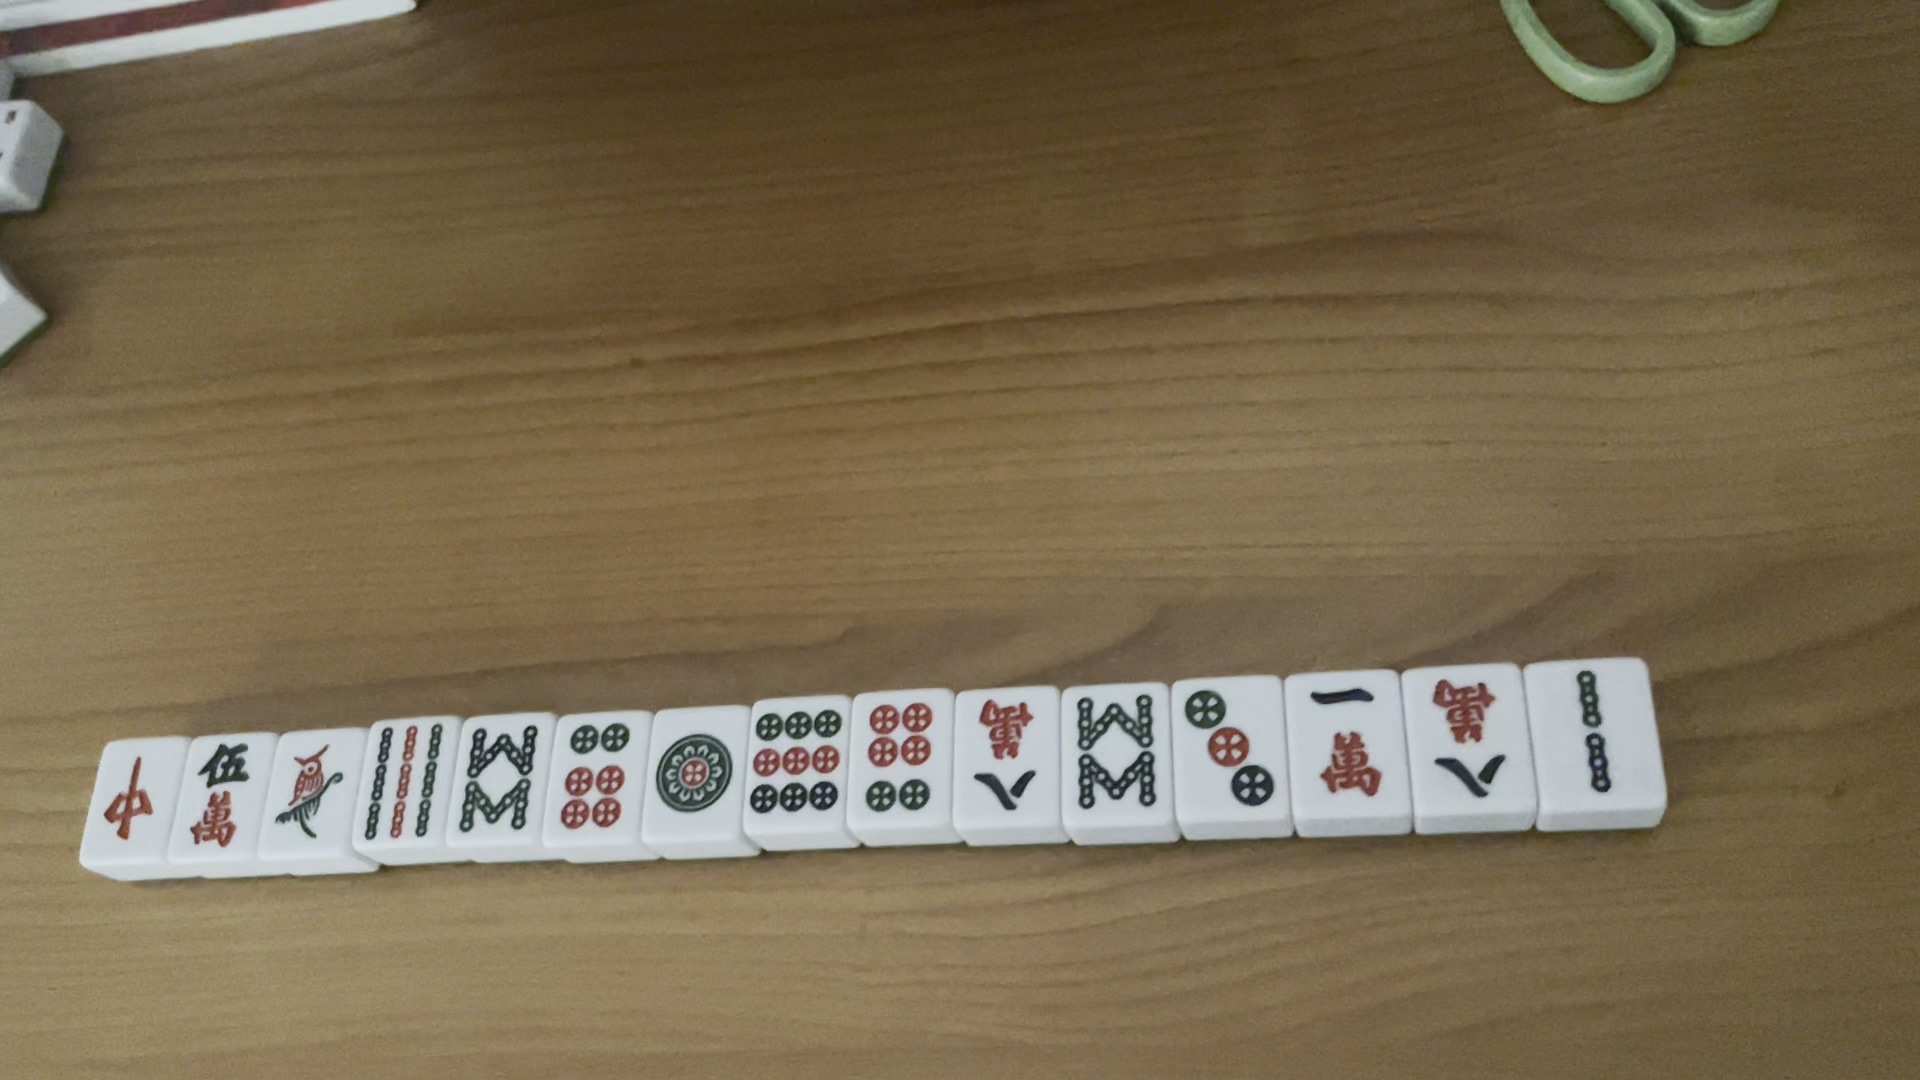b-2: (1555, 662, 1629, 800)
b-8: (448, 711, 543, 837), (1064, 691, 1158, 818)
c-1: (1304, 676, 1387, 804)
c-5: (186, 740, 255, 848)
c-8: (1423, 673, 1507, 798), (971, 694, 1044, 819)
d-1: (266, 746, 352, 844), (647, 731, 742, 818)
d-3: (1180, 683, 1280, 820)
d-6: (555, 717, 636, 833), (858, 699, 939, 815)
d-9: (745, 705, 848, 822), (360, 721, 444, 851)
honors-red: (96, 754, 156, 847)
